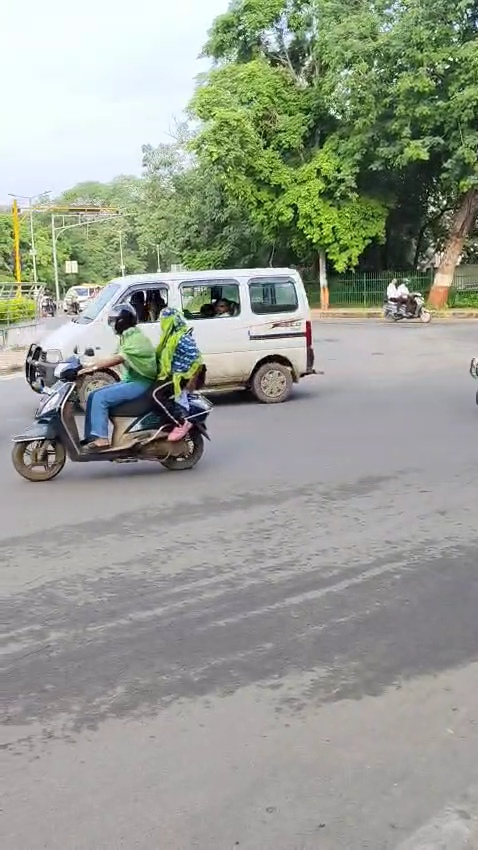BikeWithRider: (4, 286, 219, 488)
Helmet: (377, 269, 439, 327), (103, 297, 144, 338)
NoHelmet: (154, 304, 190, 335), (399, 276, 412, 289)
